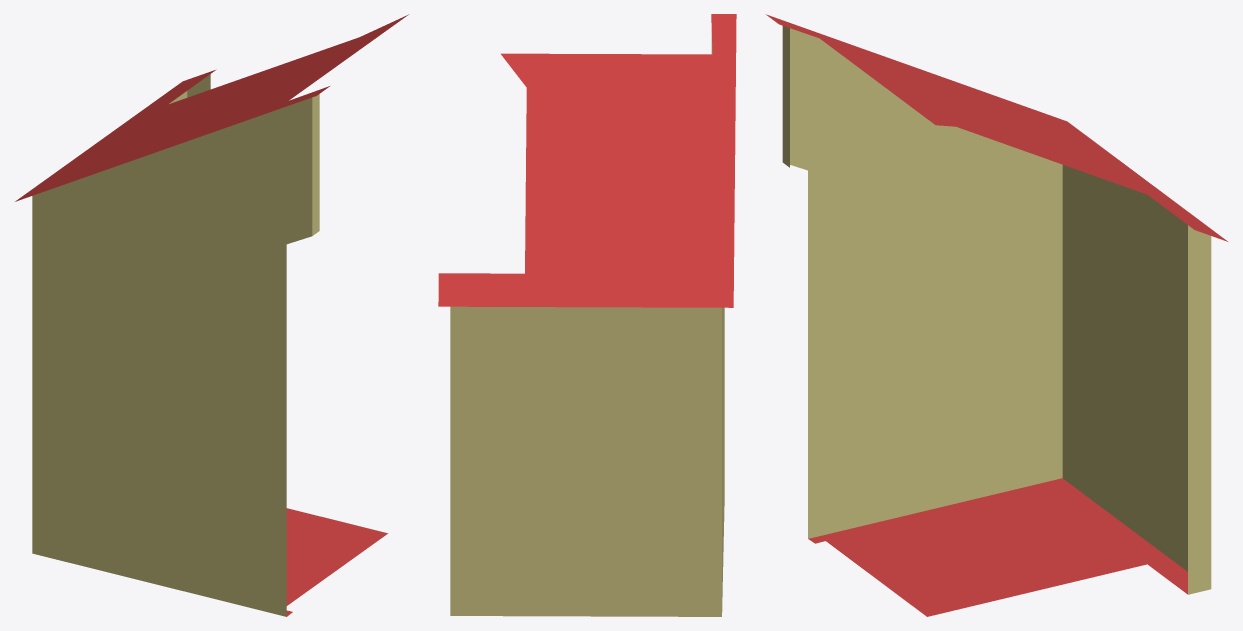
The picture shows the model from 3 angles, left to right: view 1: azimuth 30°, elevation 25°; view 2: azimuth 150°, elevation 25°; view 3: azimuth 270°, elevation 25°; orthographic projection. The views are drawn at different scales.
Bounding box in the file's own units: 7.23 × 8.93 × 11.23.
